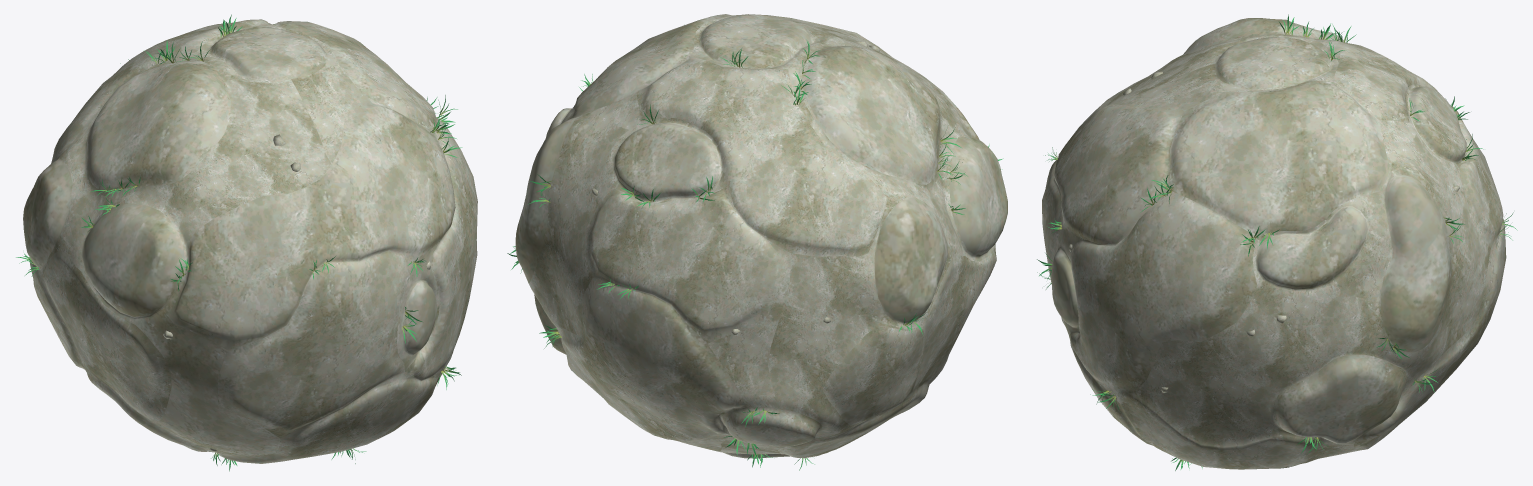
The model's file is YoshiBoxBreakPlanet.dae.
The picture shows the model from 3 angles, left to right: view 1: azimuth 30°, elevation 25°; view 2: azimuth 150°, elevation 25°; view 3: azimuth 270°, elevation 25°; orthographic projection. The views are drawn at different scales.
Parts seen in each view (by area): view 1: YoshiBoxBreakPlanet (×3); view 2: YoshiBoxBreakPlanet (×3); view 3: YoshiBoxBreakPlanet (×3).
Part boxes in pixels (x1=…): YoshiBoxBreakPlanet (×3): x1=16, y1=14, x2=477, y2=471; YoshiBoxBreakPlanet (×3): x1=507, y1=14, x2=1007, y2=470; YoshiBoxBreakPlanet (×3): x1=1037, y1=14, x2=1517, y2=470.
Bounding box in the file's own units: 1563 × 1591 × 1684.
Materials: 3 (3 with a texture image).
